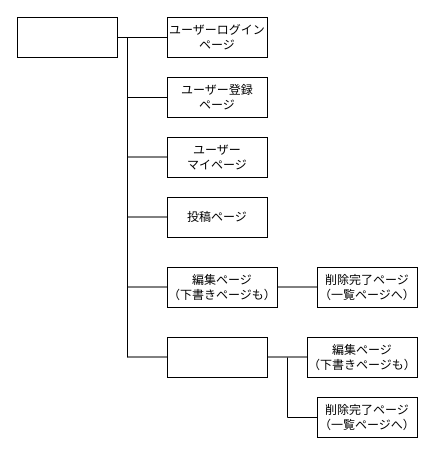
This 435x455 diagram has some shape labels left out. The shapes that lost their labels are listed below. From the top down, each one's centre as x and y in pixels, then its label:
point 67,37: 一覧ページ (検索機能追加)
point 217,357: 詳細ページ
